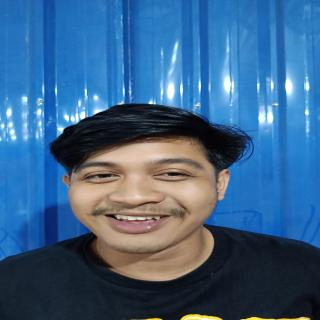Senang: (62, 132, 225, 259)
